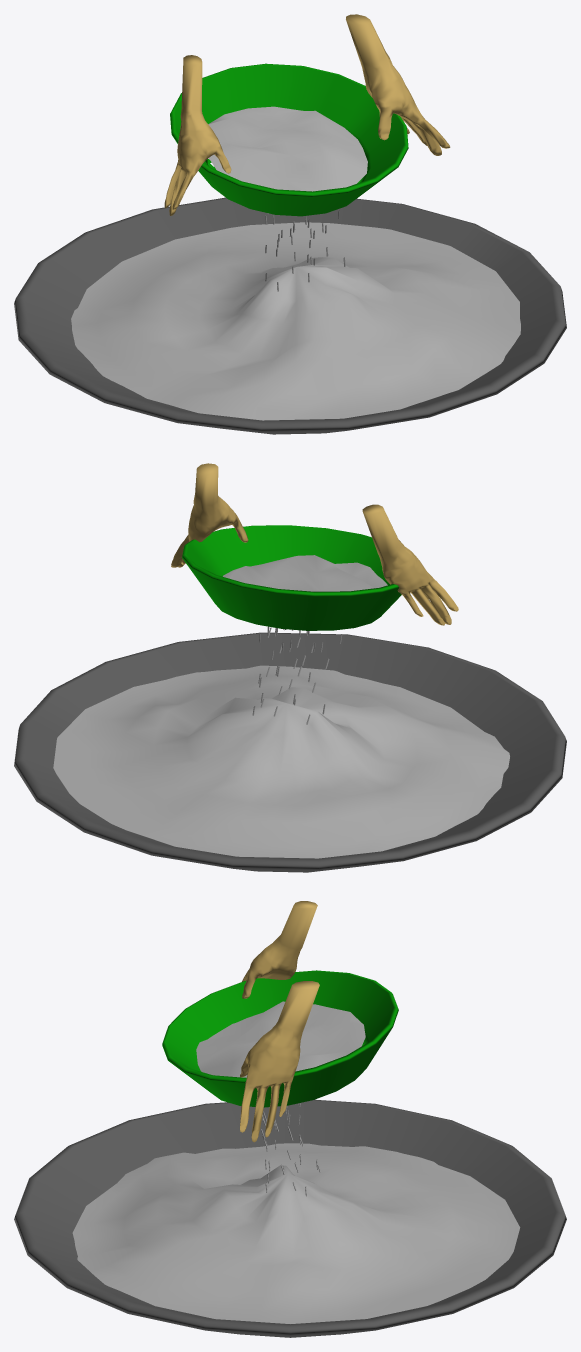
The model's file is Sieving.fbx.
The picture shows the model from 3 angles, top to bottom: view 1: azimuth 30°, elevation 25°; view 2: azimuth 150°, elevation 25°; view 3: azimuth 270°, elevation 25°; orthographic projection.
Visible parts, largest first — view 1: polySurface54, pCylinder1, pCylinder3, polySurface1; view 2: polySurface54, pCylinder1, pCylinder3, polySurface1; view 3: polySurface54, pCylinder1, pCylinder3, polySurface1.
Boxes of the visible parts, bbox=[...] form: polySurface54: bbox=[71, 106, 520, 420]; pCylinder1: bbox=[14, 197, 566, 434]; pCylinder3: bbox=[170, 63, 408, 216]; polySurface1: bbox=[164, 14, 450, 215]; polySurface54: bbox=[53, 555, 509, 858]; pCylinder1: bbox=[14, 632, 566, 872]; pCylinder3: bbox=[182, 525, 401, 630]; polySurface1: bbox=[171, 463, 458, 625]; polySurface54: bbox=[72, 1001, 520, 1323]; pCylinder1: bbox=[14, 1099, 566, 1337]; pCylinder3: bbox=[162, 970, 398, 1107]; polySurface1: bbox=[240, 901, 319, 1142].
Bounding box in the file's own units: 6.24 × 3.98 × 6.24.
